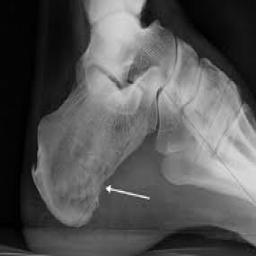cancer: (32, 110, 114, 226)
